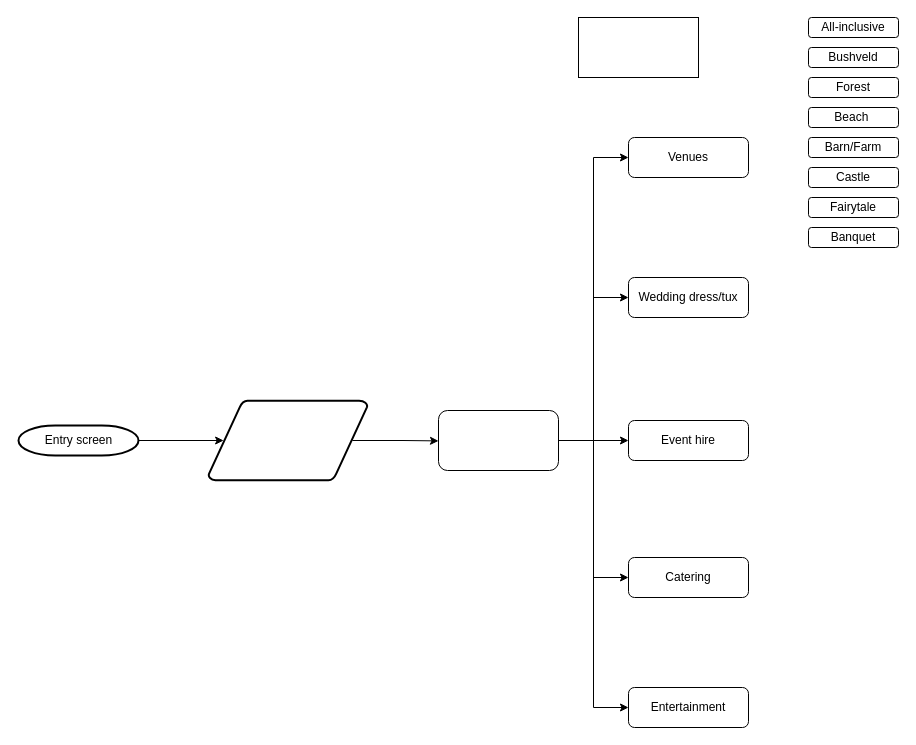
The diagram is 916 pixels wide and 745 high, and some of its shapes have lost their labels. The centre of each missing label's shape, as x and y in pixels:
"Categories" belongs at pixel 498 440.
"Home screen *login" belongs at pixel 287 440.
